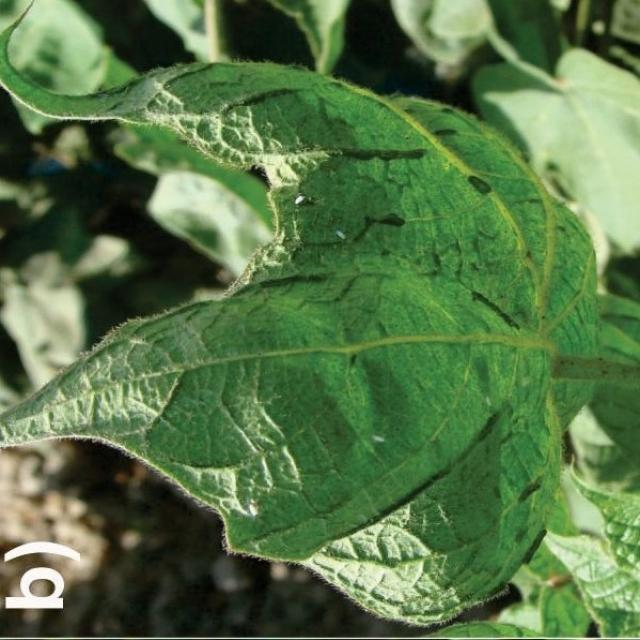Leaf Curl Virus: (130, 67, 550, 454)
